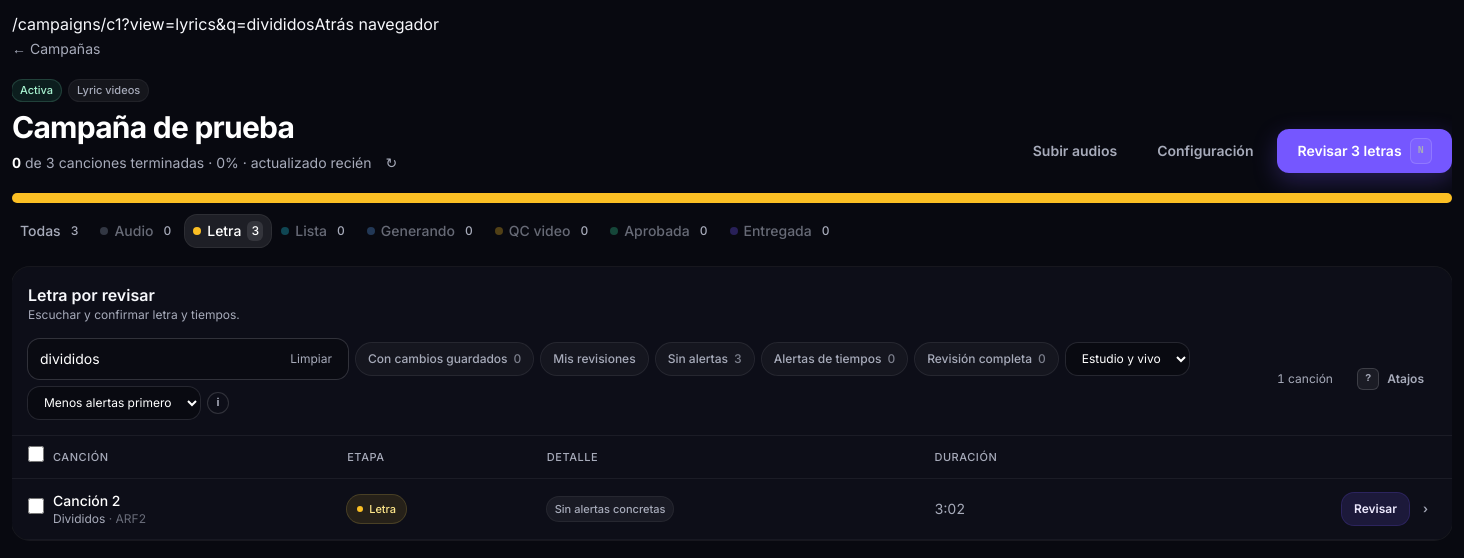
it: campaign workspace › opens the next lyric inside the filtered list and returns to the same context
This screenshot has width=1464, height=558.
Expected: the button "Canción 2" is shown, [53,490,120,510]
Click the button "Revisar 3 letras N".
click(1365, 150)  # box [1278,128,1452,172]
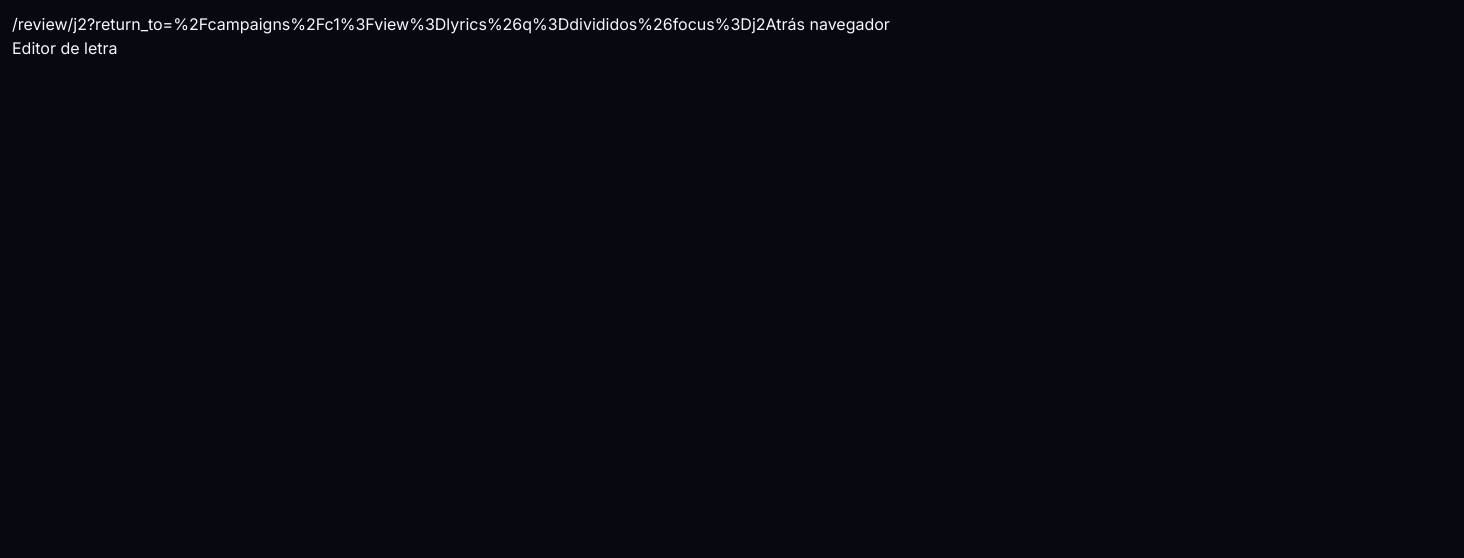
Expected: the text "Editor de letra" is shown, [12,38,118,58]
